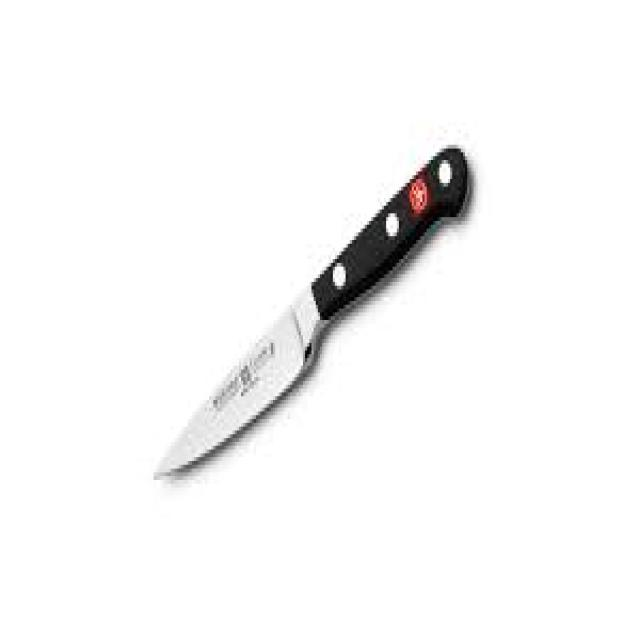knife: (148, 137, 483, 497)
